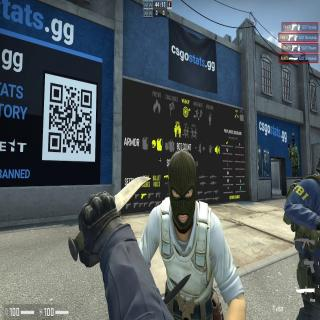CT-Body: (292, 157, 320, 319)
T-Body: (157, 151, 221, 318)
T-Head: (167, 152, 197, 232)
